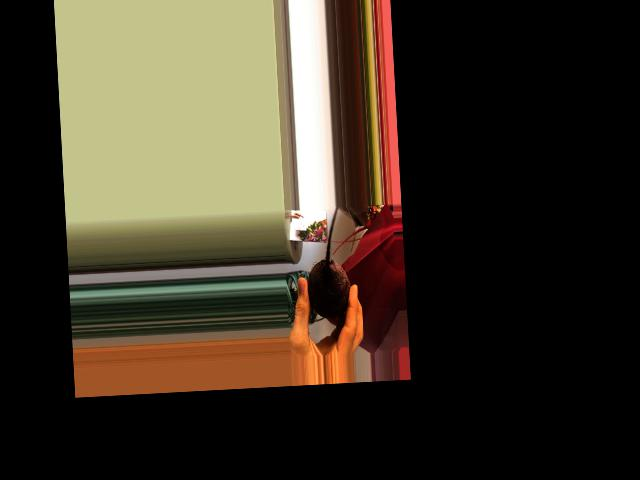beet: (303, 205, 351, 320)
